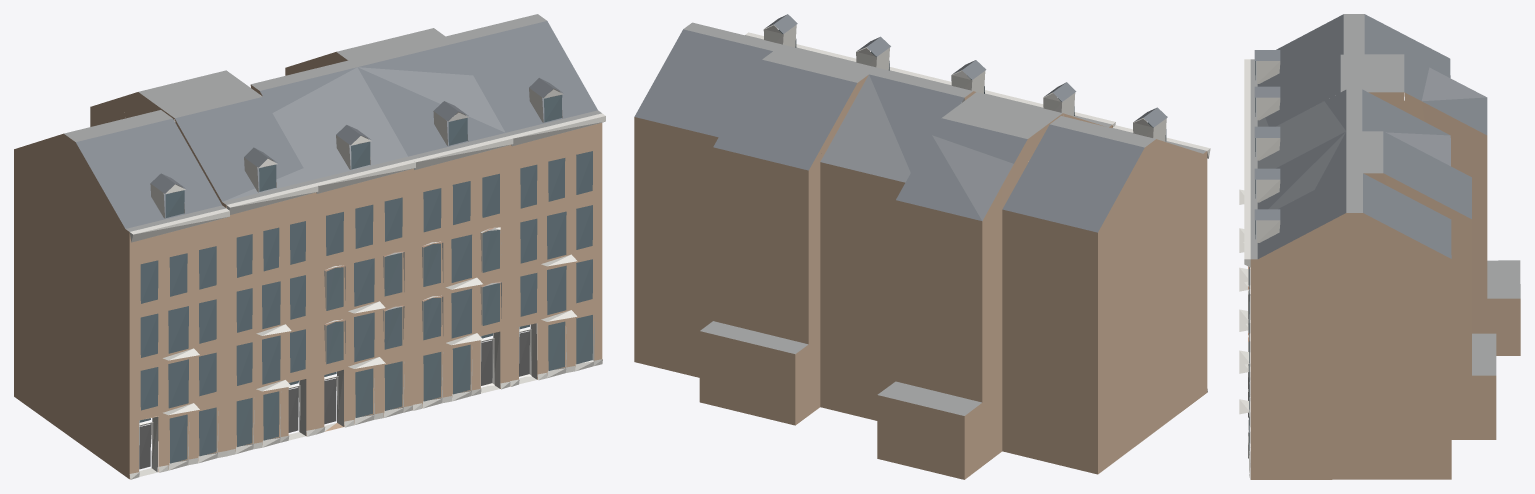
Rendered from chunk-face-anthonisz-40-72-r1.lod2.glb.
3 renders of one model, left to right at view 1: azimuth 30°, elevation 25°; view 2: azimuth 150°, elevation 25°; view 3: azimuth 270°, elevation 25°, orthographic. The views are drawn at different scales.
Parts seen in each view (by area): view 1: lod2; view 2: lod2; view 3: lod2.
Boxes of the visible parts, x1=… form: lod2: x1=14, y1=14, x2=605, y2=479; lod2: x1=634, y1=14, x2=1210, y2=479; lod2: x1=1239, y1=14, x2=1520, y2=479.
Size of the model in its own units: 26.68 by 16.3 by 15.56.
